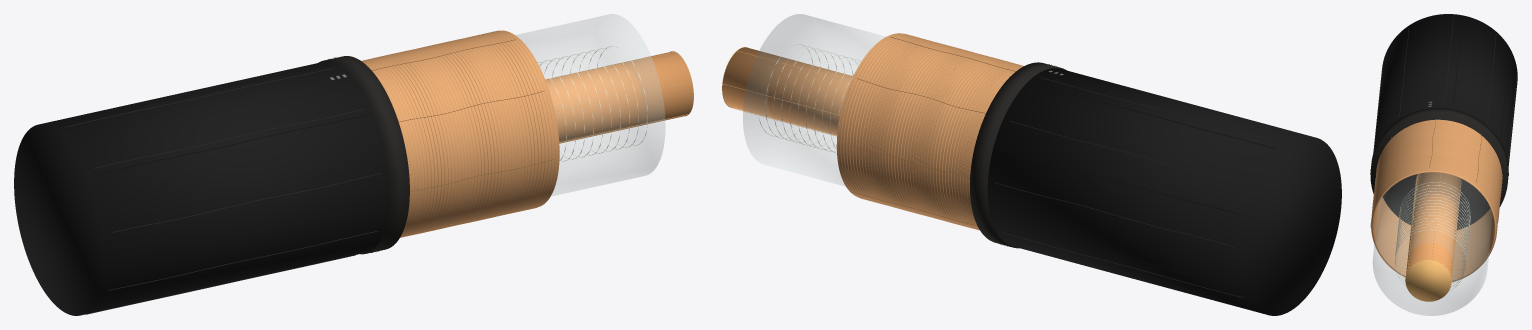
Rendered from rf-hj7-macro.glb.
3 views of the same model, side by side, from view 1: azimuth 30°, elevation 25°; view 2: azimuth 150°, elevation 25°; view 3: azimuth 270°, elevation 25° (orthographic). The views are drawn at different scales.
Visible parts, largest first — view 1: macro hardline jacket body, annular corrugated solid shield, air dielectric visual envelope, polished solid center conductor, hardline jacket cut wall, continuous PE helical air spacer; view 2: macro hardline jacket body, annular corrugated solid shield, air dielectric visual envelope, polished solid center conductor, hardline jacket cut wall, continuous PE helical air spacer; view 3: macro hardline jacket body, air dielectric visual envelope, annular corrugated solid shield, hardline jacket cut wall, polished solid center conductor, continuous PE helical air spacer, polished conductor cut face glow, rounded jacket cut lip.
Part boxes in pixels (<box>): macro hardline jacket body: <box>14,61,389,315</box>; annular corrugated solid shield: <box>361,30,559,237</box>; air dielectric visual envelope: <box>516,14,665,196</box>; polished solid center conductor: <box>545,51,693,143</box>; hardline jacket cut wall: <box>318,56,409,254</box>; continuous PE helical air spacer: <box>537,46,647,161</box>; macro hardline jacket body: <box>987,68,1341,315</box>; annular corrugated solid shield: <box>836,33,1023,230</box>; air dielectric visual envelope: <box>743,14,885,186</box>; polished solid center conductor: <box>722,47,852,135</box>; hardline jacket cut wall: <box>970,62,1066,248</box>; continuous PE helical air spacer: <box>759,44,861,153</box>; macro hardline jacket body: <box>1373,14,1517,166</box>; air dielectric visual envelope: <box>1373,172,1492,315</box>; annular corrugated solid shield: <box>1371,119,1502,282</box>; hardline jacket cut wall: <box>1370,108,1508,229</box>; polished solid center conductor: <box>1406,172,1461,278</box>; continuous PE helical air spacer: <box>1394,182,1470,291</box>; polished conductor cut face glow: <box>1405,259,1451,301</box>; rounded jacket cut lip: <box>1370,110,1508,175</box>.
Bounding box in the file's own units: 33.66 × 9.53 × 10.14.
